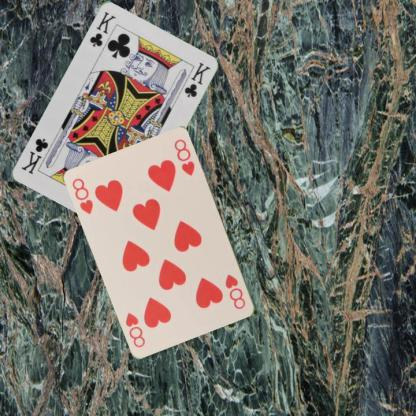8h: (70, 176, 95, 216), (223, 271, 247, 311)
Kc: (87, 8, 117, 48)
